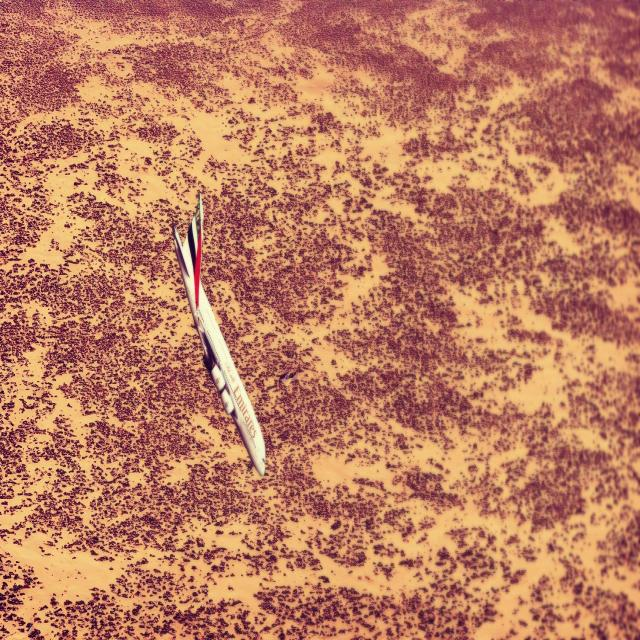airplane: (171, 192, 266, 477)
